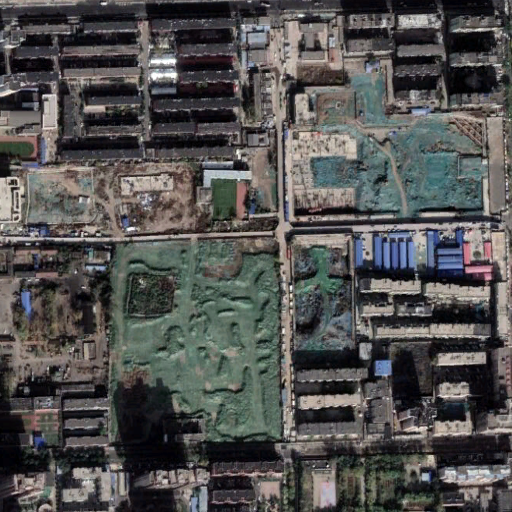cw: (115, 240, 280, 443), (308, 68, 482, 215), (290, 236, 355, 368), (25, 168, 98, 224)
